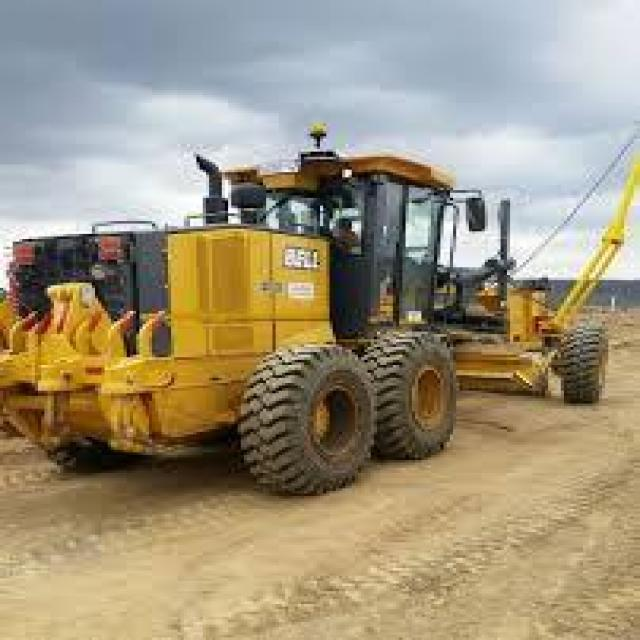Grader: (3, 121, 637, 491)
